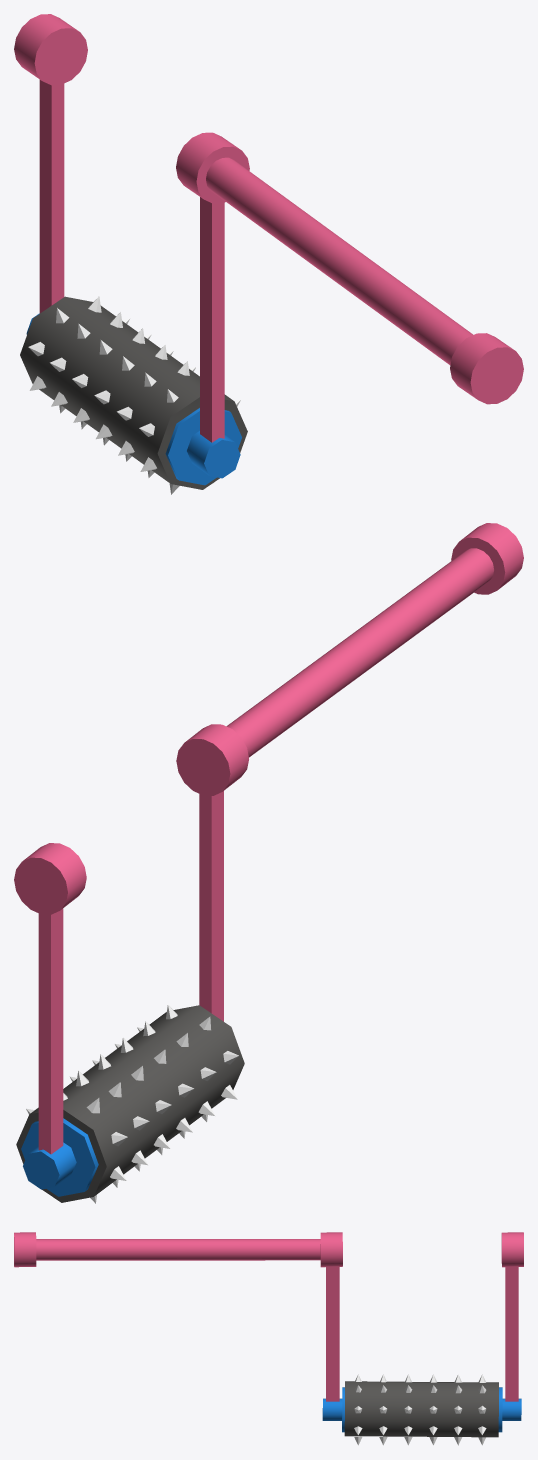
File: trap_019.fbx
The picture shows the model from 3 angles, top to bottom: view 1: azimuth 30°, elevation 25°; view 2: azimuth 150°, elevation 25°; view 3: azimuth 270°, elevation 25°; orthographic projection. The views are drawn at different scales.
Parts seen in each view (by area): view 1: trap_019, base_02, base_01; view 2: trap_019, base_02, base_01; view 3: trap_019, base_02, base_01.
Part boxes in pixels (<box>): trap_019: <box>20,79,247,494</box>; base_02: <box>176,132,523,404</box>; base_01: <box>14,14,87,85</box>; trap_019: <box>16,791,244,1203</box>; base_02: <box>176,523,523,795</box>; base_01: <box>14,843,86,914</box>; trap_019: <box>322,1267,521,1445</box>; base_02: <box>14,1232,342,1267</box>; base_01: <box>501,1232,523,1267</box>.
Bounding box in the file's own units: 343 × 1166 × 2618.
